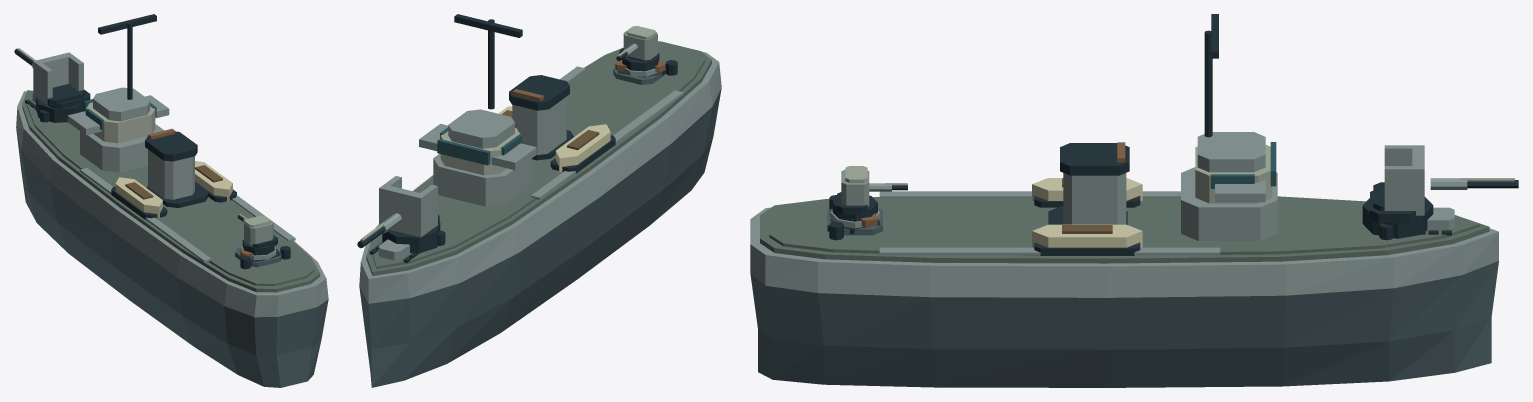
File: historic-bengal.glb
3 views of the same model, side by side, from view 1: azimuth 30°, elevation 25°; view 2: azimuth 150°, elevation 25°; view 3: azimuth 270°, elevation 25° (orthographic). The views are drawn at different scales.
Visible parts, largest first — view 1: historic-bengal-historic-bengal-geometry, historic-bengal-patrol-wheelhouse.002-geometry, historic-bengal-historic_funnel_0.069-geometry, historic-bengal-turret_main_0.058-geometry, historic-bengal-turret_aa_aa-port.070-geometry, historic-bengal-part_aa-port.070-geometry; view 2: historic-bengal-historic-bengal-geometry, historic-bengal-patrol-wheelhouse.002-geometry, historic-bengal-historic_funnel_0.069-geometry, historic-bengal-turret_main_0.058-geometry, historic-bengal-turret_aa_aa-port.070-geometry, historic-bengal-part_aa-port.070-geometry; view 3: historic-bengal-historic-bengal-geometry, historic-bengal-patrol-wheelhouse.002-geometry, historic-bengal-turret_main_0.058-geometry, historic-bengal-historic_funnel_0.069-geometry, historic-bengal-turret_aa_aa-port.070-geometry, historic-bengal-part_aa-port.070-geometry.
Boxes of the visible parts, <box> form: historic-bengal-historic-bengal-geometry: <box>16,90,328,387</box>; historic-bengal-patrol-wheelhouse.002-geometry: <box>67,14,169,172</box>; historic-bengal-historic_funnel_0.069-geometry: <box>145,128,208,207</box>; historic-bengal-turret_main_0.058-geometry: <box>14,48,90,122</box>; historic-bengal-turret_aa_aa-port.070-geometry: <box>237,213,277,255</box>; historic-bengal-part_aa-port.070-geometry: <box>235,246,281,267</box>; historic-bengal-historic-bengal-geometry: <box>359,41,721,387</box>; historic-bengal-patrol-wheelhouse.002-geometry: <box>419,14,536,206</box>; historic-bengal-historic_funnel_0.069-geometry: <box>509,75,573,160</box>; historic-bengal-turret_main_0.058-geometry: <box>357,176,440,252</box>; historic-bengal-turret_aa_aa-port.070-geometry: <box>616,26,659,71</box>; historic-bengal-part_aa-port.070-geometry: <box>613,68,665,84</box>; historic-bengal-historic-bengal-geometry: <box>750,178,1498,387</box>; historic-bengal-patrol-wheelhouse.002-geometry: <box>1181,14,1277,240</box>; historic-bengal-turret_main_0.058-geometry: <box>1362,145,1518,238</box>; historic-bengal-historic_funnel_0.069-geometry: <box>1048,142,1129,224</box>; historic-bengal-turret_aa_aa-port.070-geometry: <box>832,166,907,221</box>; historic-bengal-part_aa-port.070-geometry: <box>827,208,882,235</box>.
Bounding box in the file's own units: 0.7623 × 1.58 × 3.33.
